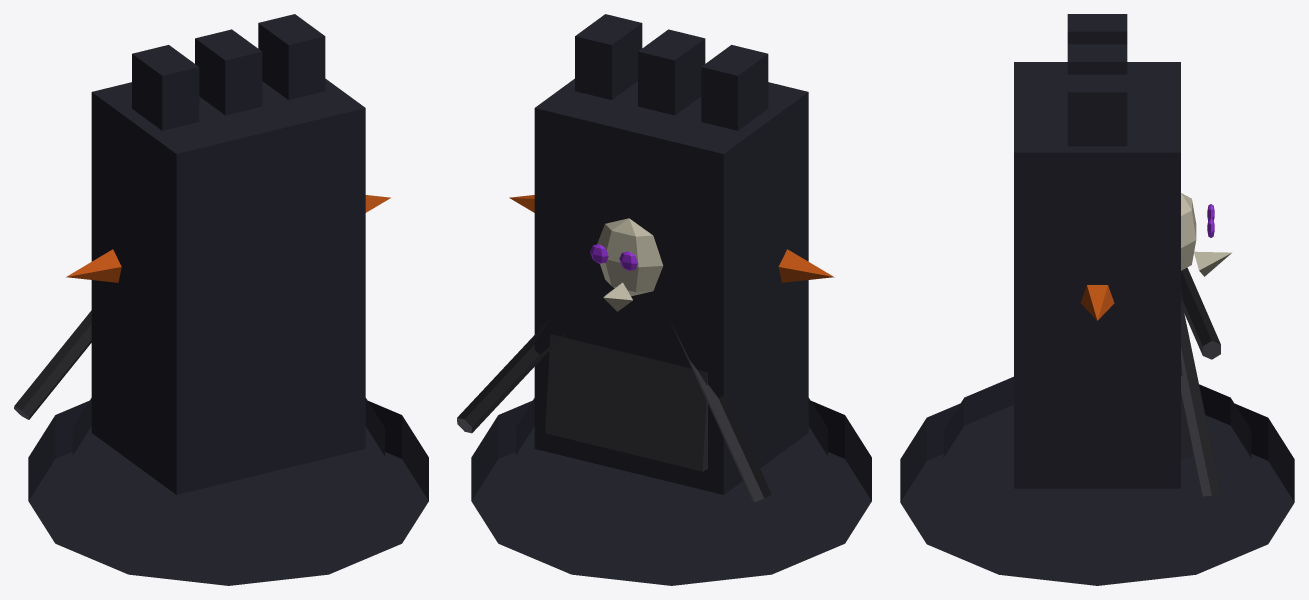
File: rook_sarcophagus.obj
3 views of the same model, side by side, from view 1: azimuth 30°, elevation 25°; view 2: azimuth 150°, elevation 25°; view 3: azimuth 270°, elevation 25° (orthographic).
Parts seen in each view (by area): view 1: rook_sarcophagus; view 2: rook_sarcophagus; view 3: rook_sarcophagus.
Boxes of the visible parts, box(x1,y1,x2,y2) form: rook_sarcophagus: box(14, 14, 428, 585); rook_sarcophagus: box(457, 14, 871, 585); rook_sarcophagus: box(900, 14, 1294, 585).
Size of the model in its own units: 0.66 by 0.83 by 0.66.
